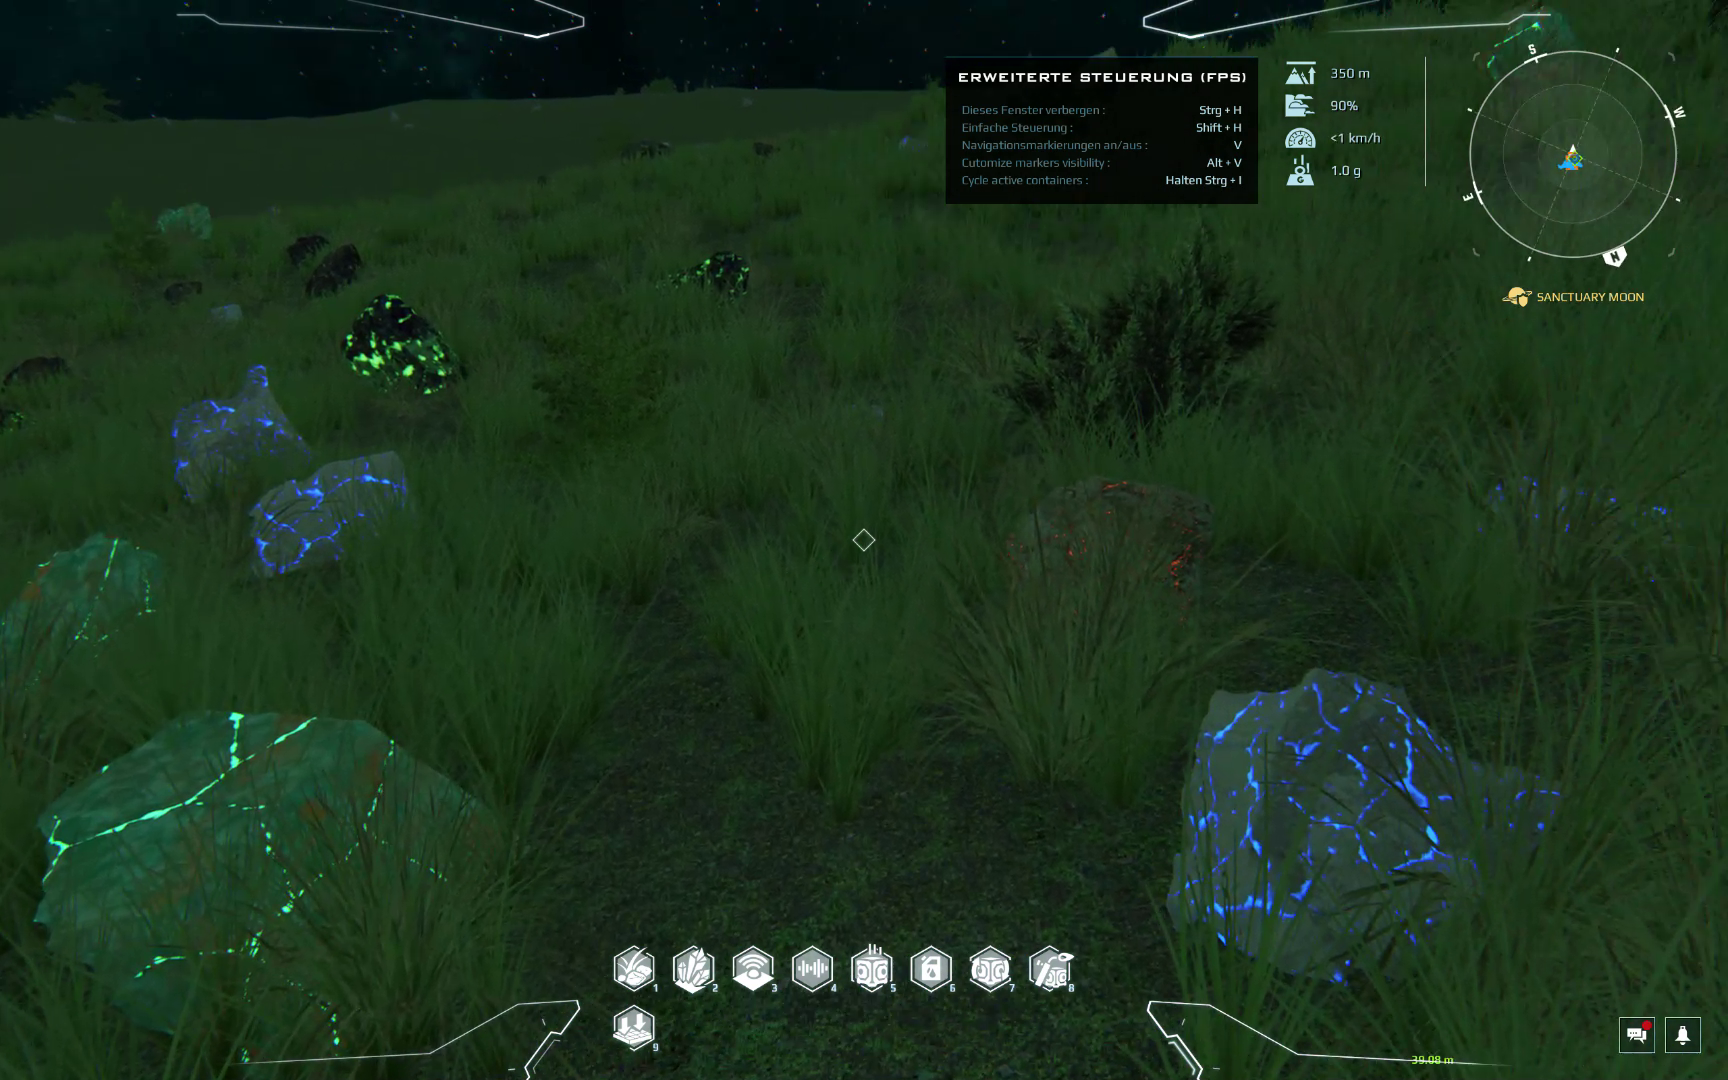Ore: (34, 701, 509, 1074), (1157, 662, 1572, 995), (1000, 470, 1210, 646), (1468, 460, 1708, 600), (1, 531, 167, 679), (240, 447, 418, 577), (163, 363, 299, 501), (342, 291, 463, 399), (658, 248, 756, 305), (304, 241, 365, 299), (10, 348, 68, 389), (616, 134, 679, 167), (159, 274, 207, 306), (282, 226, 321, 264), (2, 409, 24, 438)
